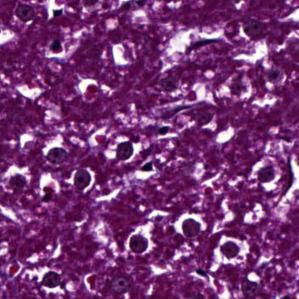inflammation: (247, 155, 284, 193), (212, 237, 254, 270), (32, 265, 67, 296), (174, 209, 207, 240), (107, 135, 142, 164), (123, 225, 154, 256), (4, 166, 35, 193), (68, 166, 96, 193), (39, 36, 69, 61)
